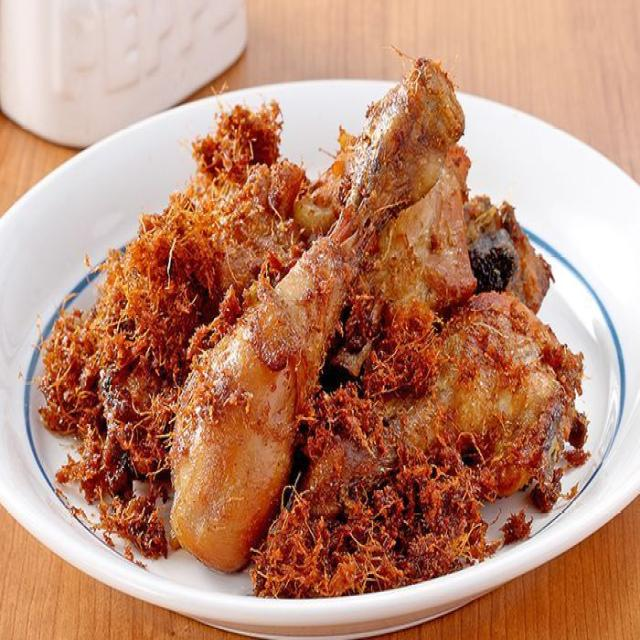Frango: (167, 78, 472, 574)
